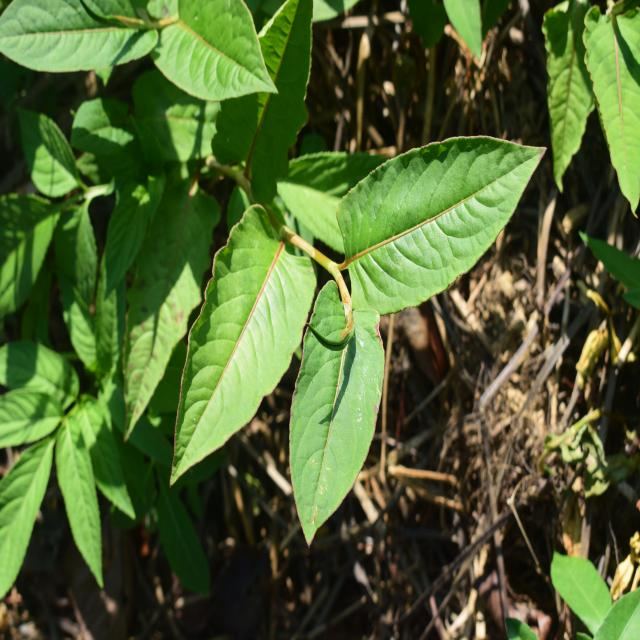Chinese_knotweed: (158, 120, 532, 493)
